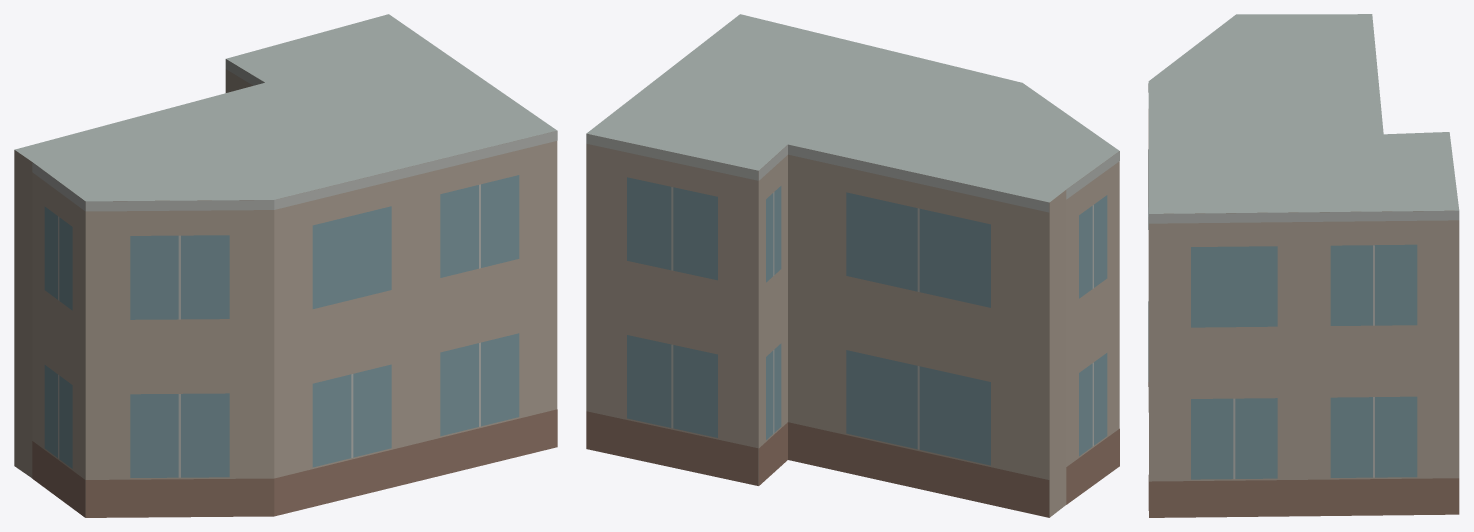
The model's file is survey-upis-32625405.glb.
The picture shows the model from 3 angles, left to right: view 1: azimuth 30°, elevation 25°; view 2: azimuth 150°, elevation 25°; view 3: azimuth 270°, elevation 25°; orthographic projection. The views are drawn at different scales.
Parts seen in each view (by area): view 1: survey-upis-32625405.tmp; view 2: survey-upis-32625405.tmp; view 3: survey-upis-32625405.tmp.
Part boxes in pixels (box(x1,y1,x2,y2)): survey-upis-32625405.tmp: box(14, 14, 557, 517); survey-upis-32625405.tmp: box(586, 14, 1119, 517); survey-upis-32625405.tmp: box(1148, 14, 1459, 517).
Size of the model in its own units: 10.73 by 7.6 by 7.05.
